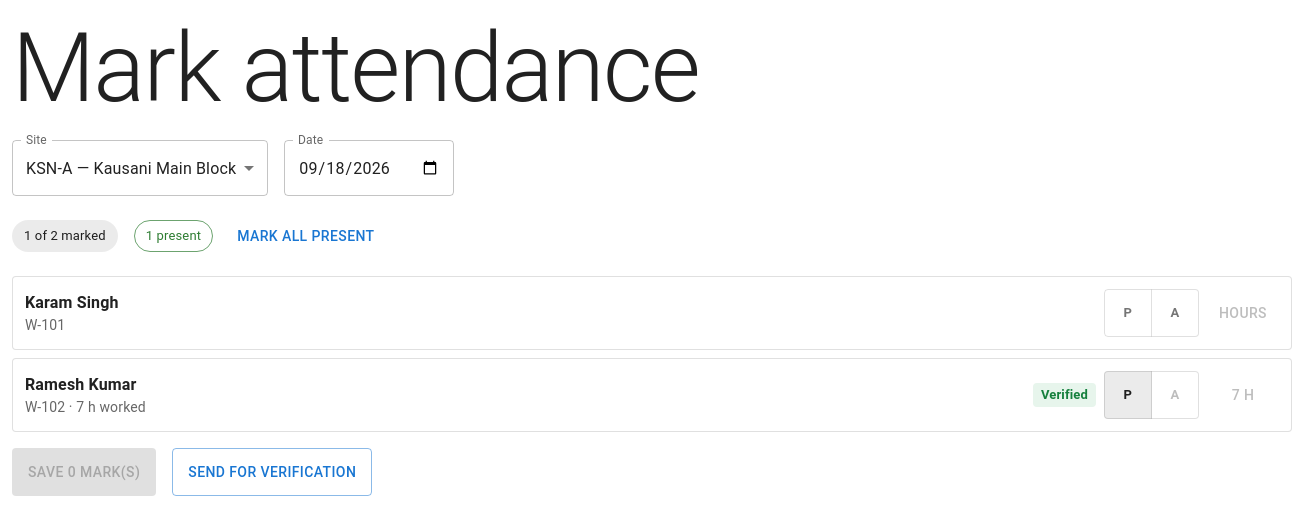
it: MarkAttendancePage › marks everyone present in one tap, skipping rows that can no longer be edited
Expected: the text "Karam Singh" is shown, [25,293,119,312]
Click the button "Mark all present".
click(306, 236)  # box [229,212,383,260]
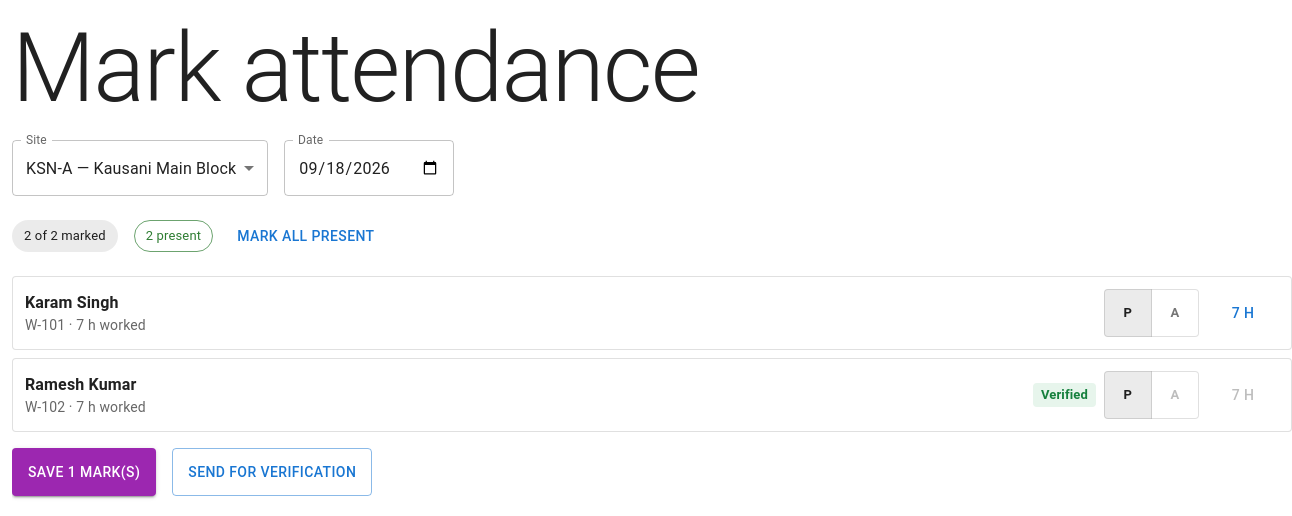
Result: the button "Save 1 mark(s)" is shown at [12,448,156,496]
